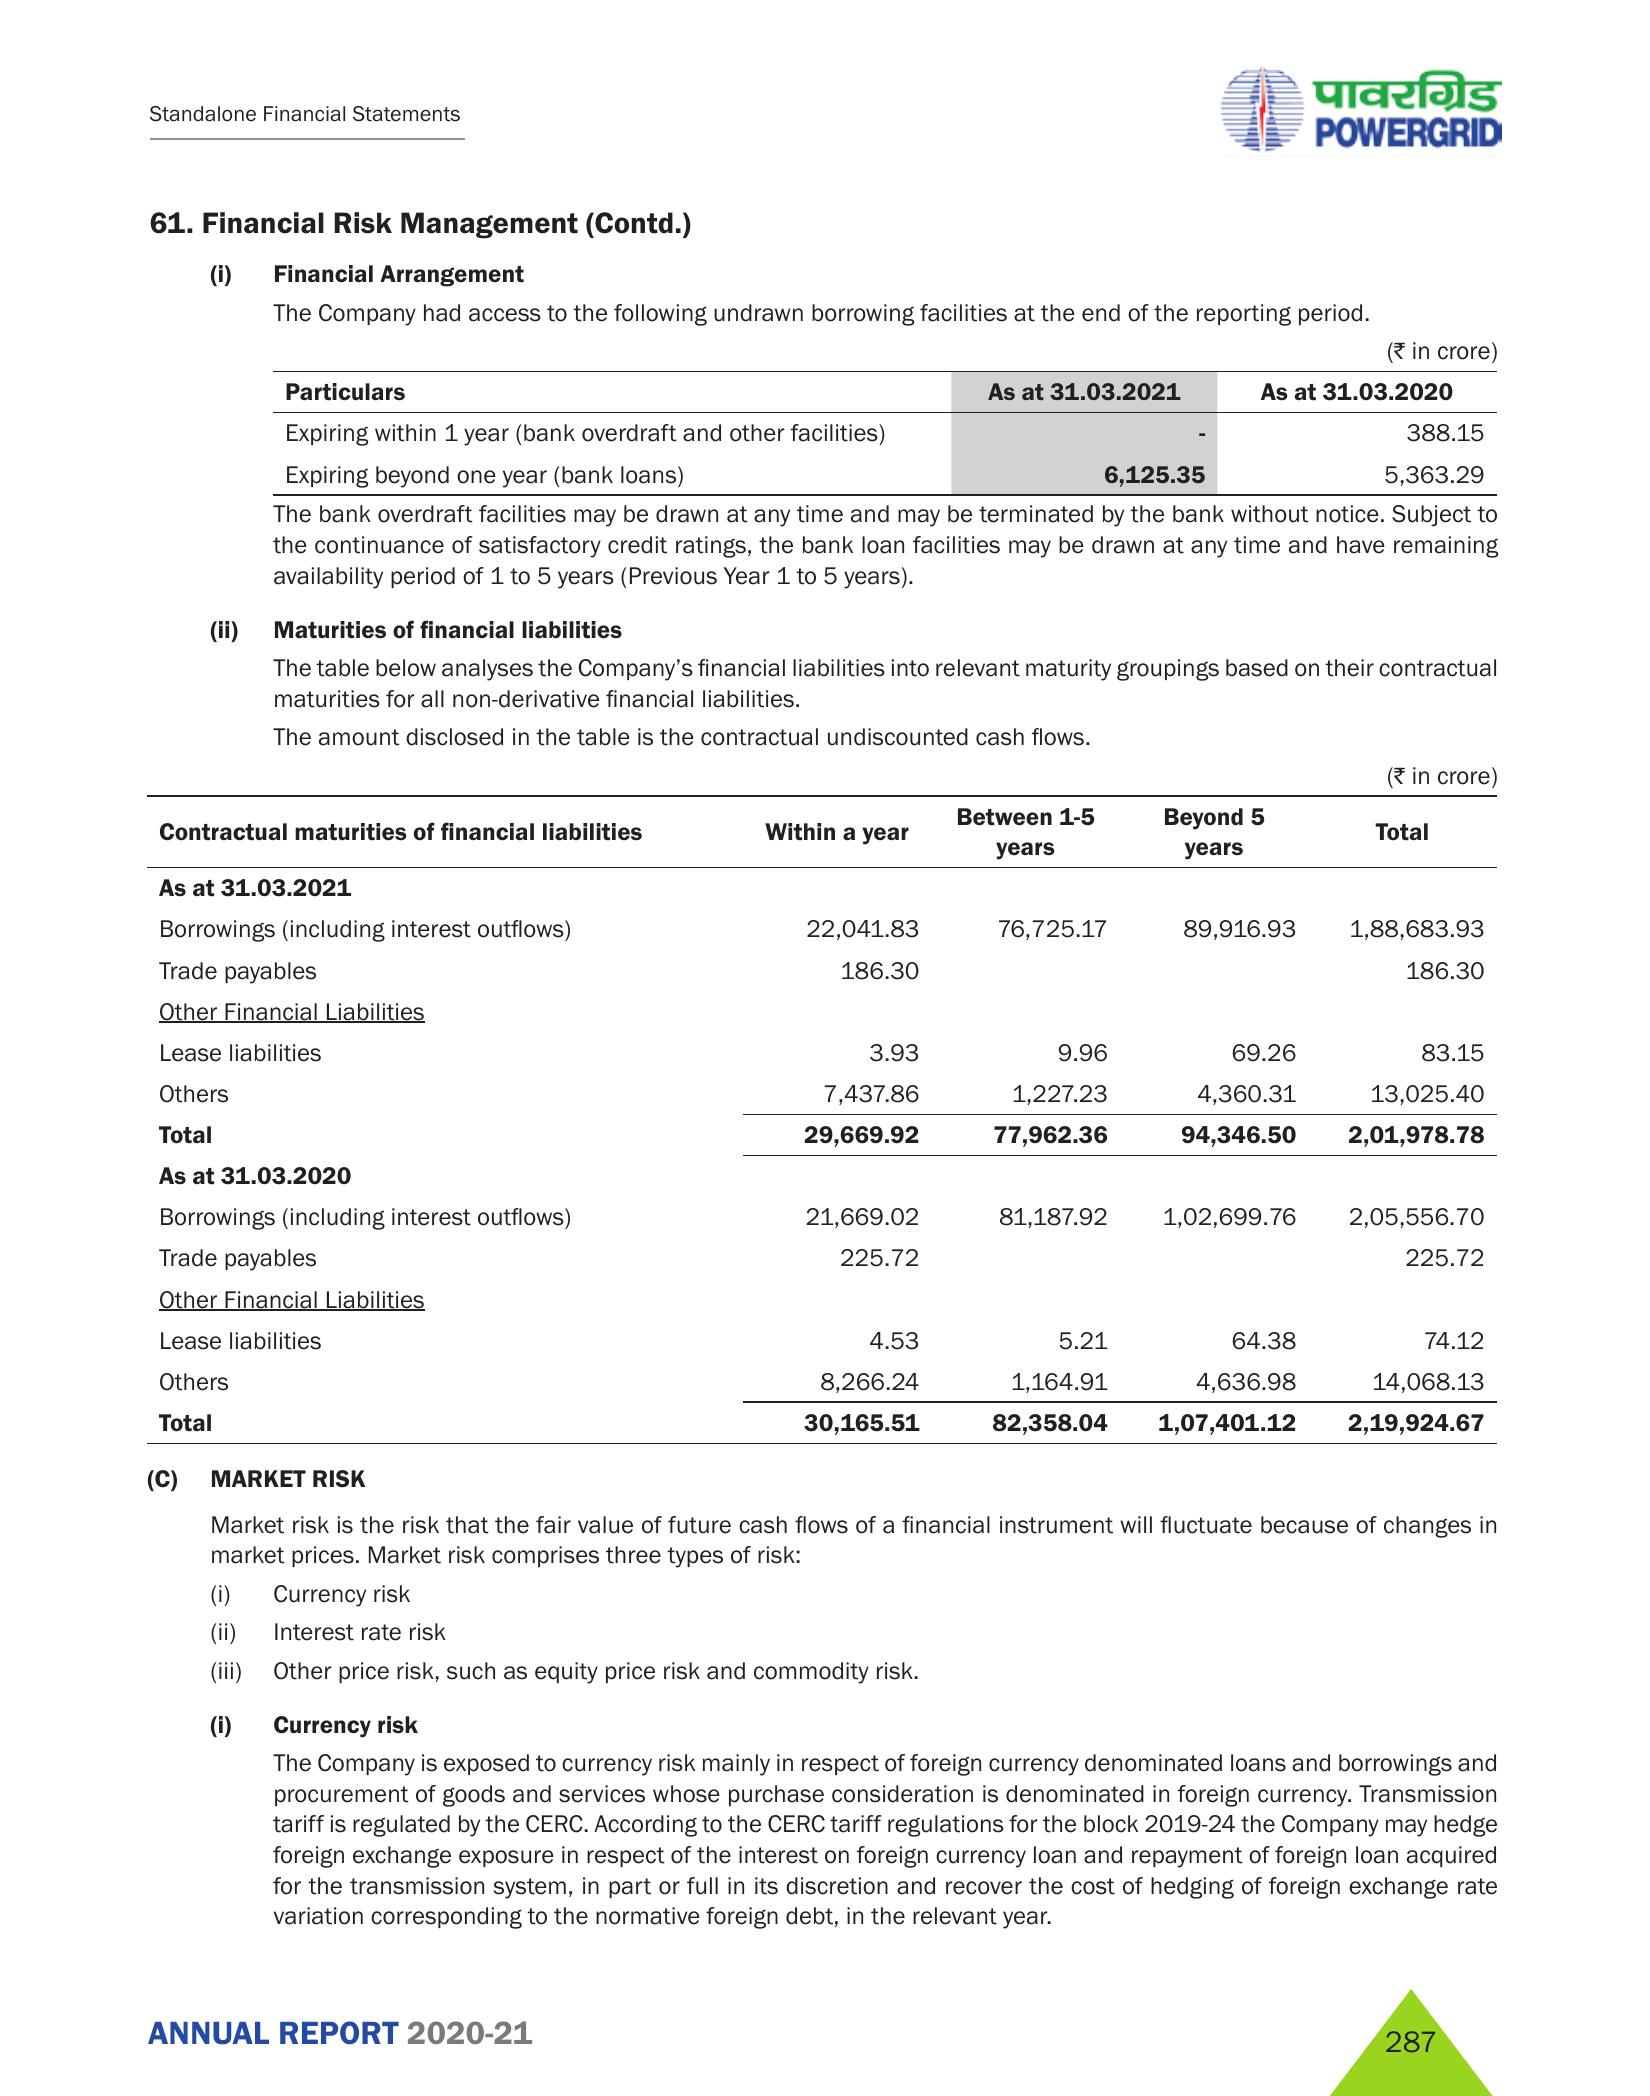Footer: (0, 1968, 1650, 2096)
Header: (0, 0, 1650, 158)
Table: (134, 789, 1528, 1499), (233, 367, 1539, 493)
